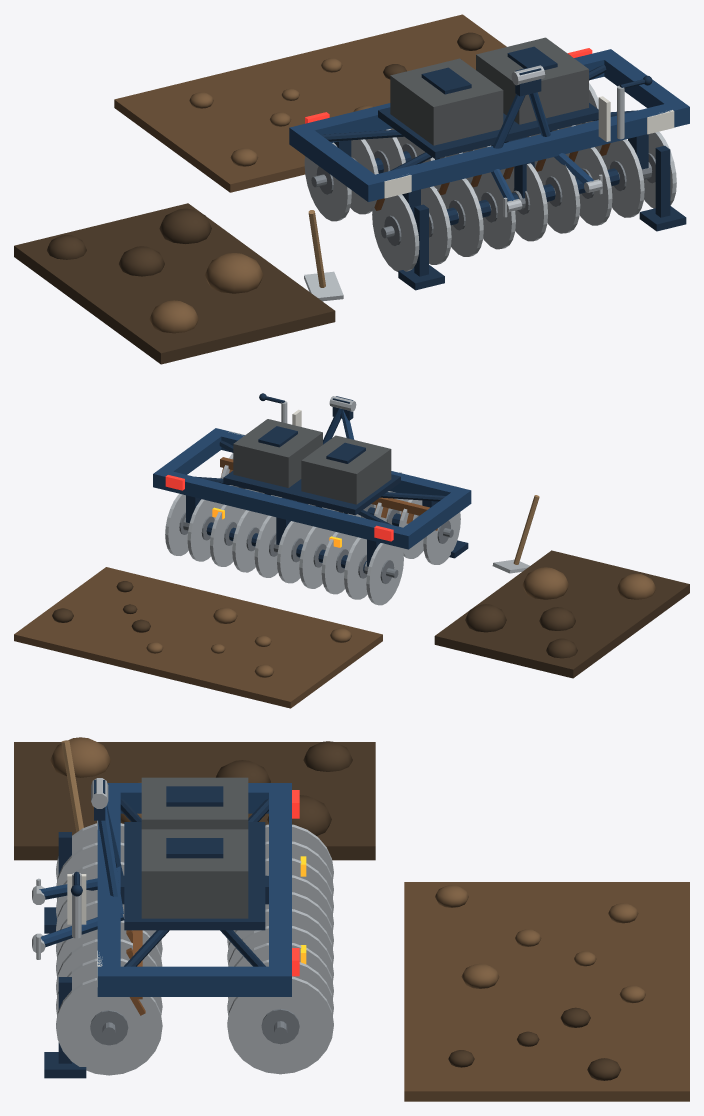
Rendered from disc_harrow.glb.
3 renders of one model, top to bottom at view 1: azimuth 30°, elevation 25°; view 2: azimuth 150°, elevation 25°; view 3: azimuth 270°, elevation 25°, orthographic. The views are drawn at different scales.
Parts seen in each view (by area): view 1: TilledFieldProps, HarrowFrame, FrontGang, RearGang; view 2: TilledFieldProps, HarrowFrame, RearGang, FrontGang; view 3: TilledFieldProps, HarrowFrame, RearGang, FrontGang.
Part boxes in pixels (x1,y1,x2,y2): TilledFieldProps: (14,14,506,364); HarrowFrame: (289,37,689,290); FrontGang: (372,131,676,271); RearGang: (304,83,598,221); TilledFieldProps: (14,495,689,708); HarrowFrame: (153,393,471,574); RearGang: (165,493,403,605); FrontGang: (221,453,460,564); TilledFieldProps: (14,737,689,1101); HarrowFrame: (32,777,306,1078); RearGang: (227,824,333,1074); FrontGang: (56,823,162,1075).
Bounding box in the file's own units: 4.3 × 1.22 × 3.55.
